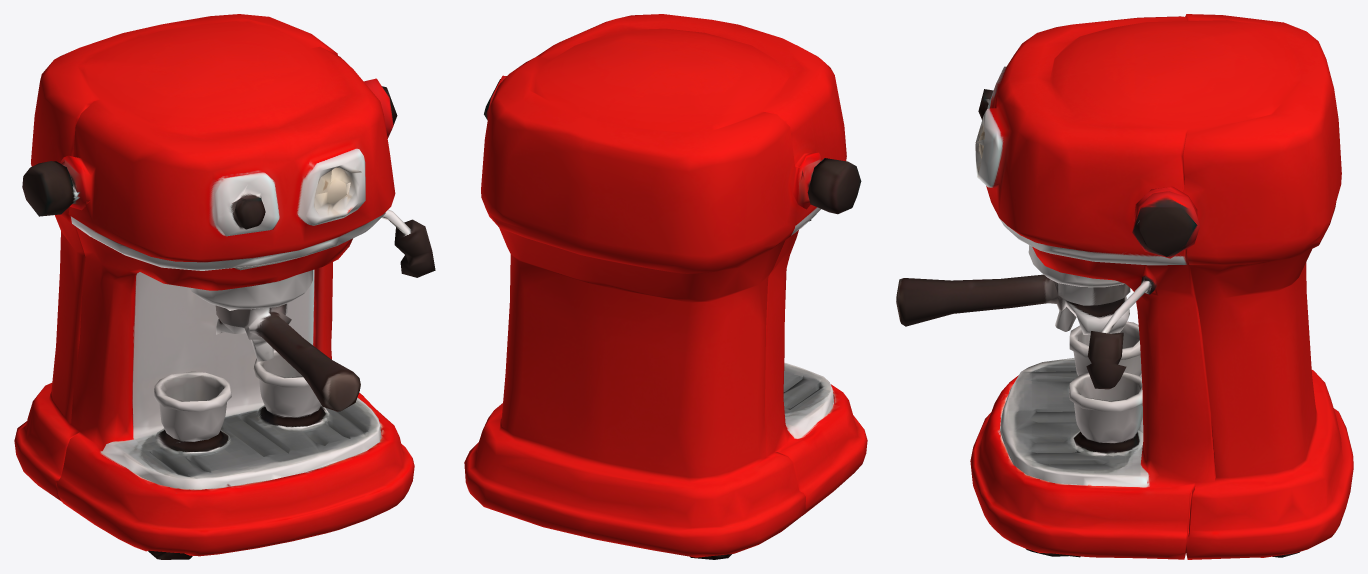
The model's file is kaffeemaschine.glb.
3 views of the same model, side by side, from view 1: azimuth 30°, elevation 25°; view 2: azimuth 150°, elevation 25°; view 3: azimuth 270°, elevation 25° (orthographic). The views are drawn at different scales.
Parts seen in each view (by area): view 1: tripo_node_3b62324c-fa24-4b5c-bd78-12963cde404e; view 2: tripo_node_3b62324c-fa24-4b5c-bd78-12963cde404e; view 3: tripo_node_3b62324c-fa24-4b5c-bd78-12963cde404e.
Part boxes in pixels (bbox=[...]): tripo_node_3b62324c-fa24-4b5c-bd78-12963cde404e: bbox=[14, 14, 435, 559]; tripo_node_3b62324c-fa24-4b5c-bd78-12963cde404e: bbox=[464, 14, 867, 559]; tripo_node_3b62324c-fa24-4b5c-bd78-12963cde404e: bbox=[896, 14, 1353, 559].
Size of the model in its own units: 0.8913 by 0.9809 by 0.9225.
1 material, 1 textured.
